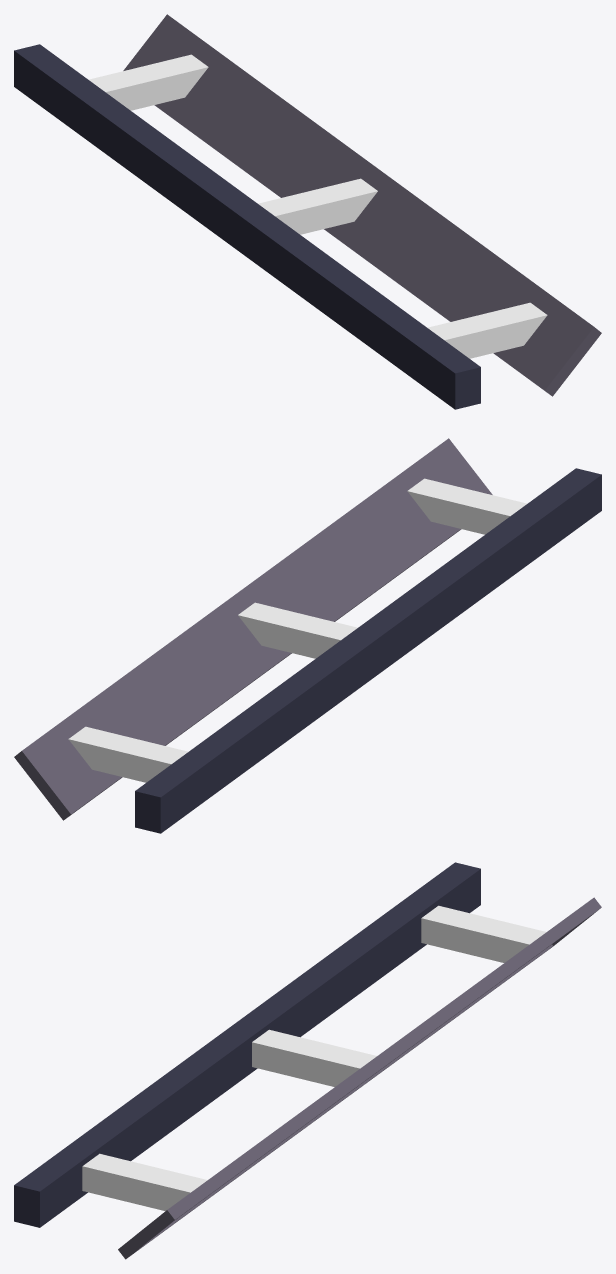
Rendered from Top_Wall_Light.fbx.
3 renders of one model, top to bottom at view 1: azimuth 30°, elevation 25°; view 2: azimuth 150°, elevation 25°; view 3: azimuth 330°, elevation 25°, orthographic.
Visible parts, largest first — view 1: Top_Wall_Light; view 2: Top_Wall_Light; view 3: Top_Wall_Light.
Boxes of the visible parts, box(x1,y1,x2,y2) form: Top_Wall_Light: box(14, 14, 601, 409); Top_Wall_Light: box(14, 438, 601, 833); Top_Wall_Light: box(14, 862, 601, 1259).
Size of the model in its own units: 39.04 by 14.49 by 194.
